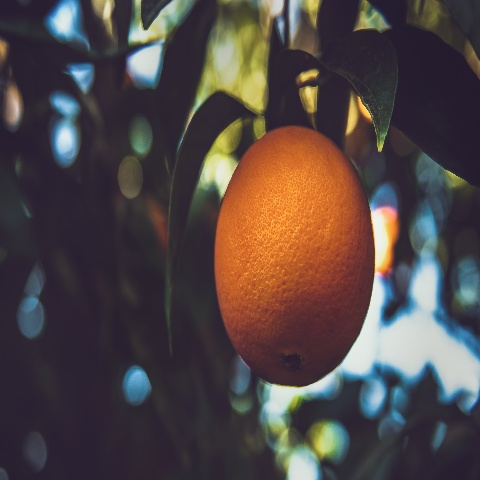orange: (198, 121, 408, 396)
